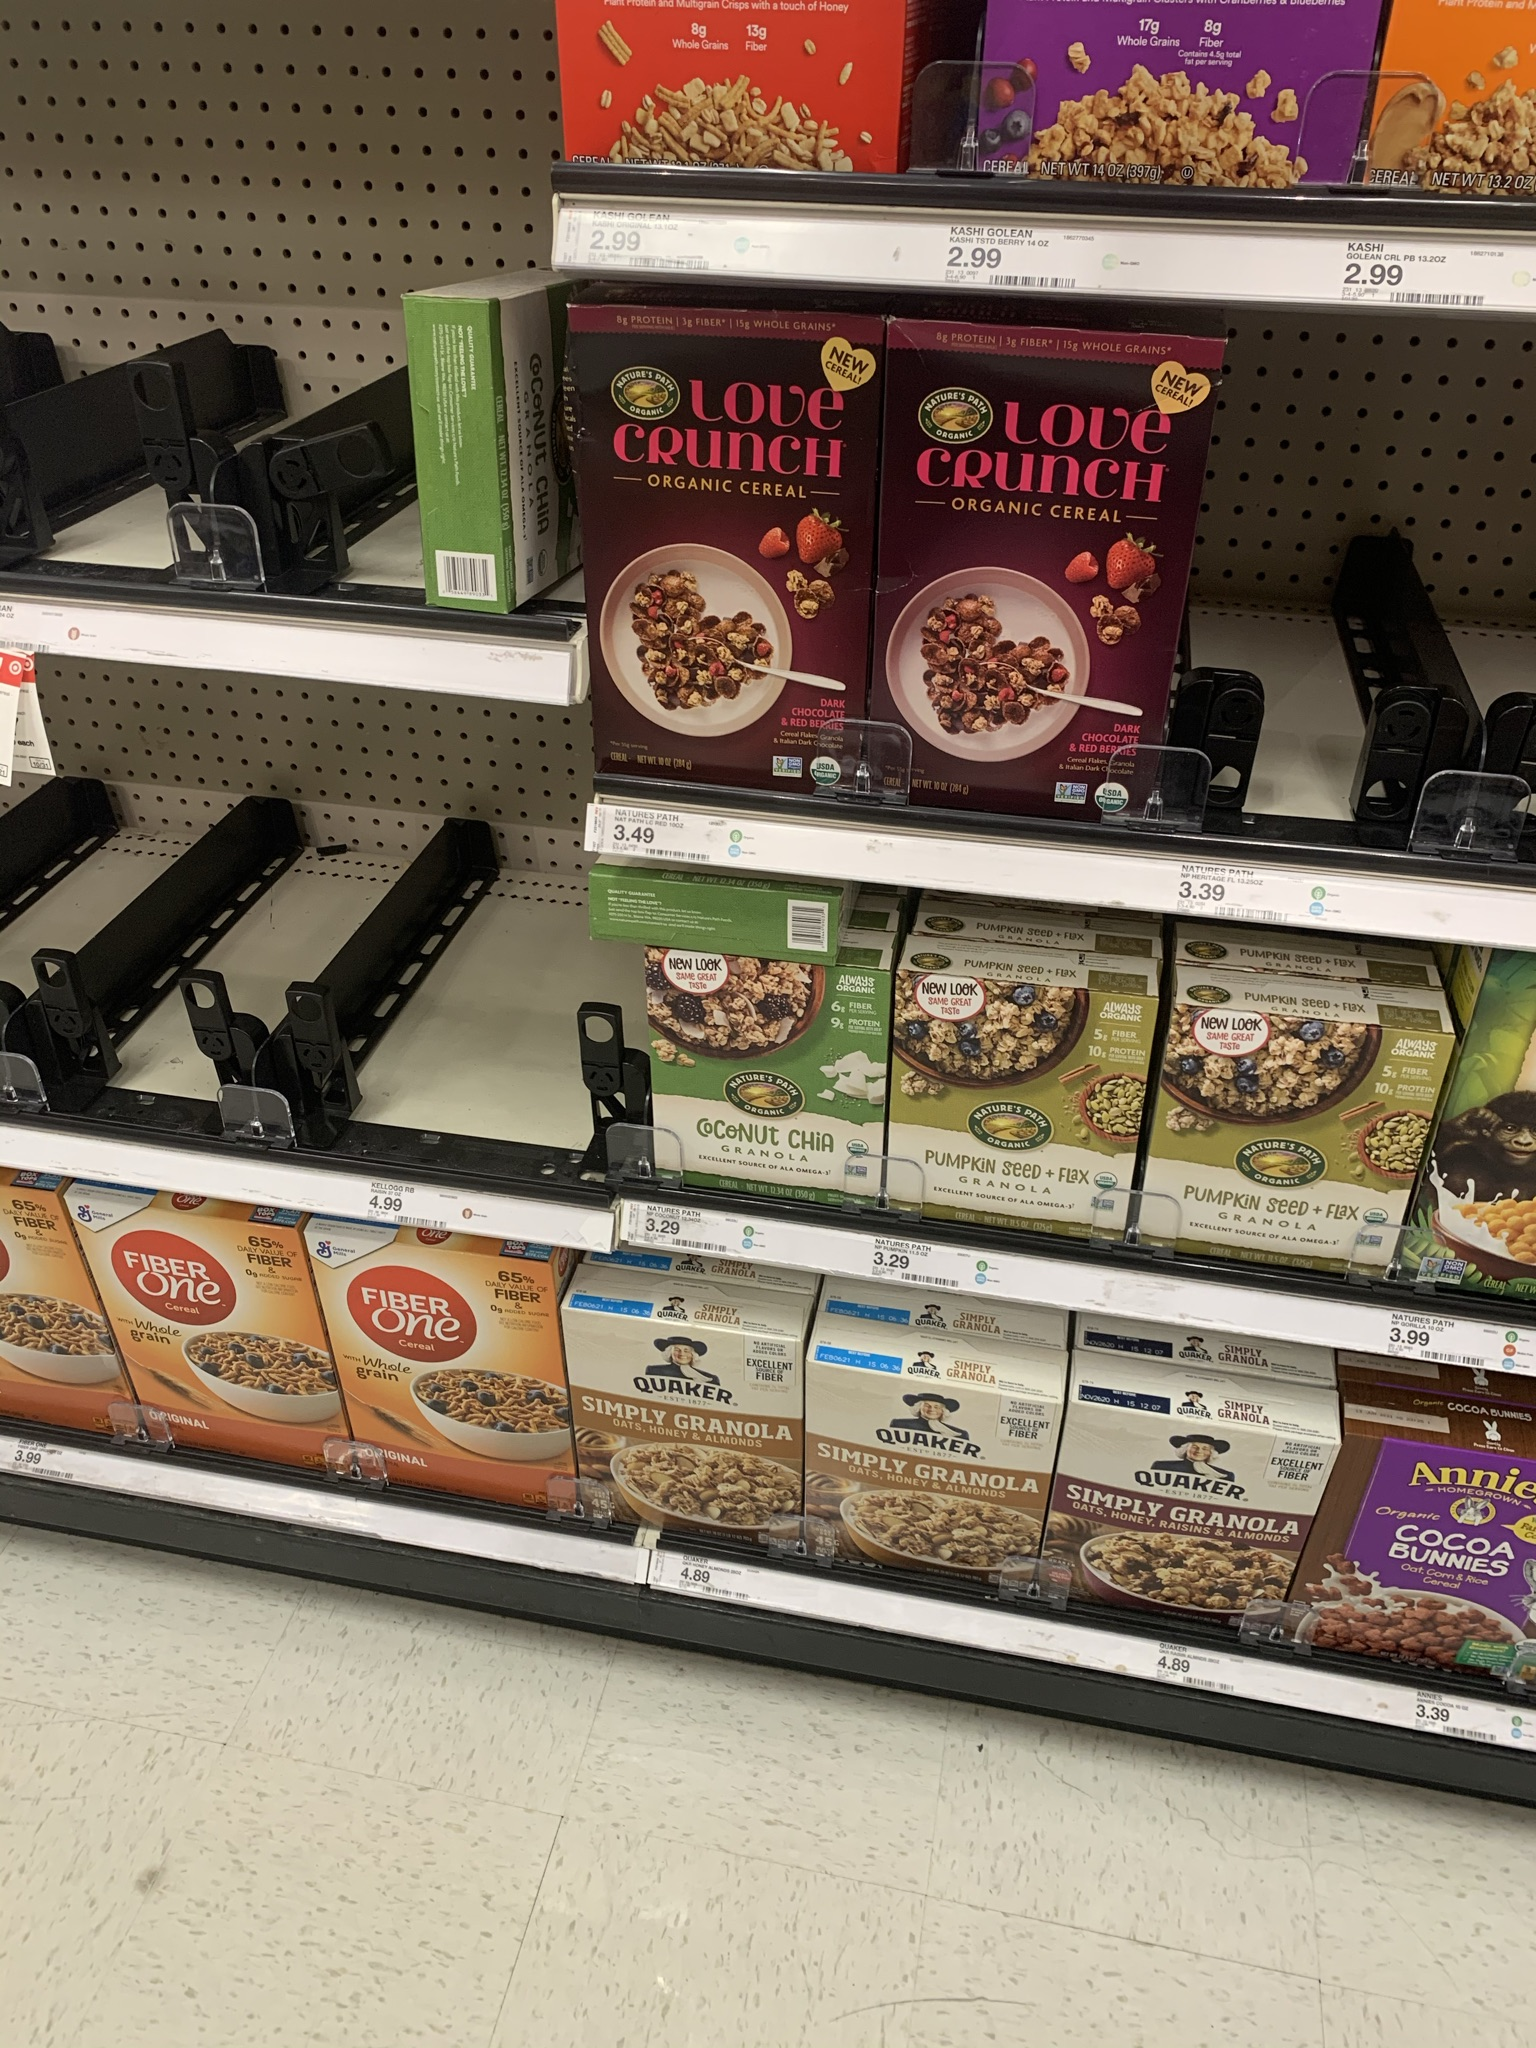cereal: (565, 316, 841, 798), (899, 347, 1163, 792), (302, 1240, 574, 1526), (565, 1313, 807, 1571), (1155, 1042, 1446, 1250), (900, 953, 1108, 1240), (815, 1377, 1050, 1611), (1083, 1406, 1288, 1659), (115, 1234, 318, 1484)
